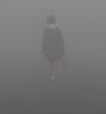person: (40, 14, 70, 83)
